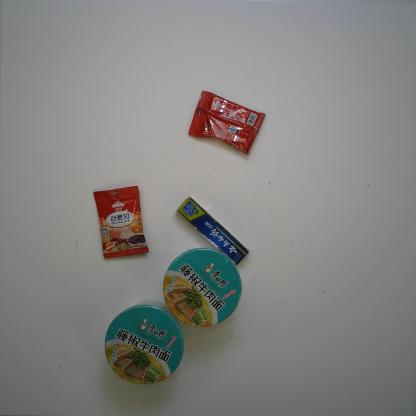Instant Drink: (188, 90, 266, 156), (94, 185, 150, 259)
Instant Noodles: (104, 304, 184, 385), (163, 248, 242, 328)
Personal Hygiene: (176, 195, 250, 266)
